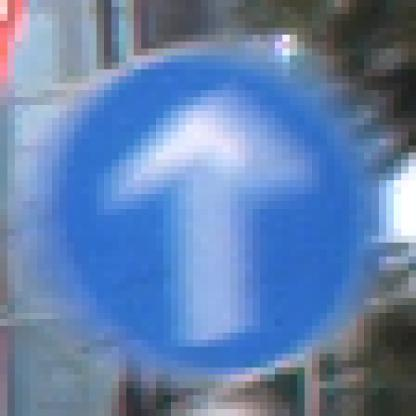AheadOnly: (38, 43, 380, 382)
